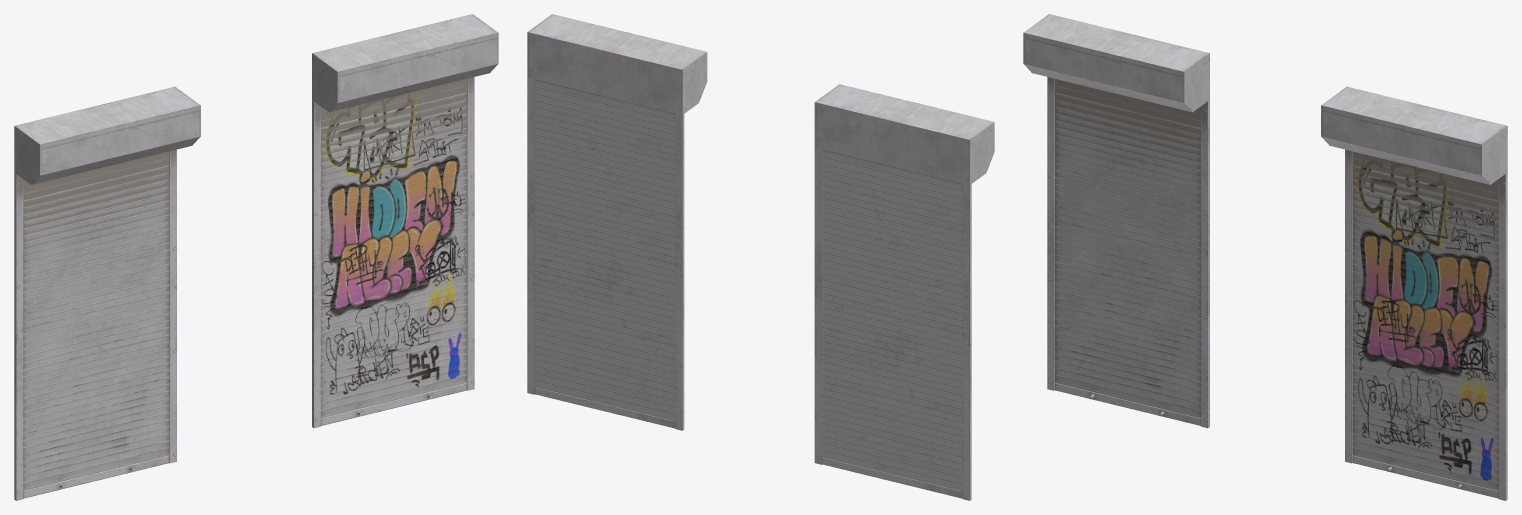
The model's file is rollershutter_door.glb.
3 renders of one model, left to right at view 1: azimuth 30°, elevation 25°; view 2: azimuth 150°, elevation 25°; view 3: azimuth 330°, elevation 25°, orthographic. The views are drawn at different scales.
Visible parts, largest first — view 1: rollershutter_door, rollershutter_door_graffiti; view 2: rollershutter_door, rollershutter_door_graffiti; view 3: rollershutter_door_graffiti, rollershutter_door.
Part boxes in pixels (x1,y1,x2,y2): rollershutter_door: (14,86,200,500); rollershutter_door_graffiti: (312,14,498,428); rollershutter_door: (814,84,994,500); rollershutter_door_graffiti: (527,14,707,430); rollershutter_door_graffiti: (1321,86,1507,500); rollershutter_door: (1023,14,1209,428).
Size of the model in its own units: 3.08 by 2.4 by 0.3.
2 materials, 2 textured.
